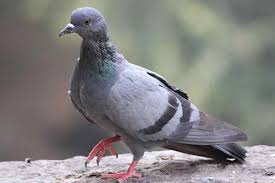Walking: (51, 3, 264, 182)
